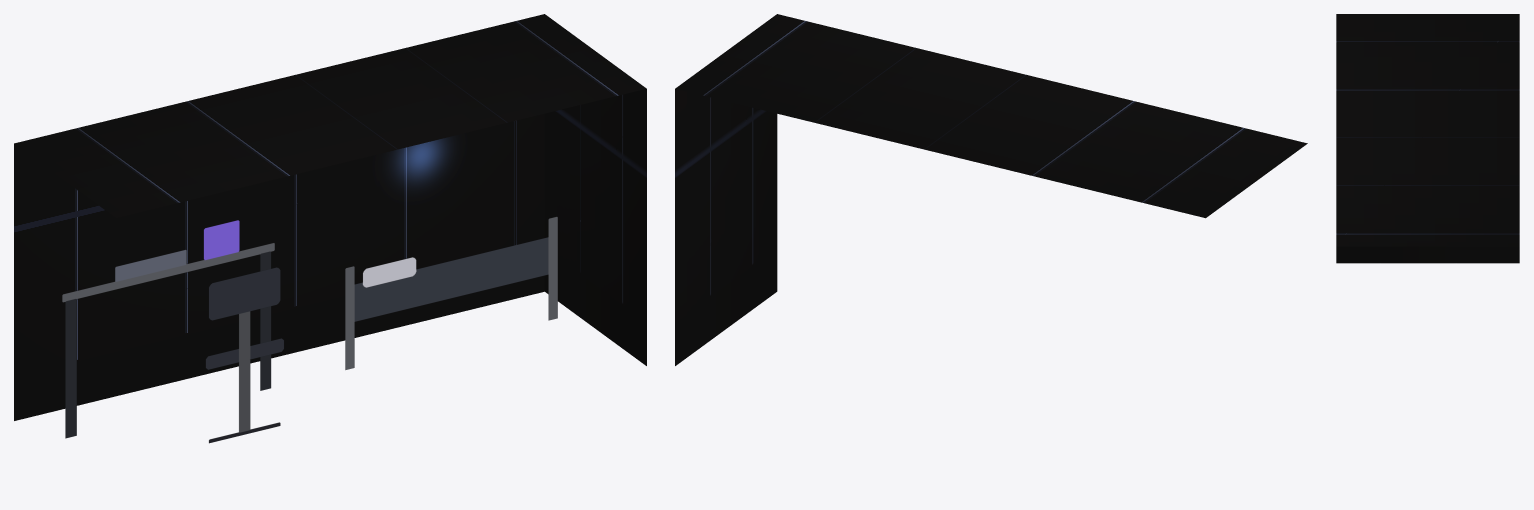
File: combo_201.glb
The picture shows the model from 3 angles, left to right: view 1: azimuth 30°, elevation 25°; view 2: azimuth 150°, elevation 25°; view 3: azimuth 270°, elevation 25°; orthographic projection. The views are drawn at different scales.
Parts seen in each view (by area): view 1: InteriorBox, PropLayers; view 2: InteriorBox; view 3: InteriorBox.
Boxes of the visible parts, x1,y1,x2,y2 form: InteriorBox: (14,14,646,420); PropLayers: (62,216,557,443); InteriorBox: (675,14,1307,365); InteriorBox: (1336,14,1519,263).
Size of the model in its own units: 3 by 1.5 by 1.
Materials: 2 (2 with a texture image).
